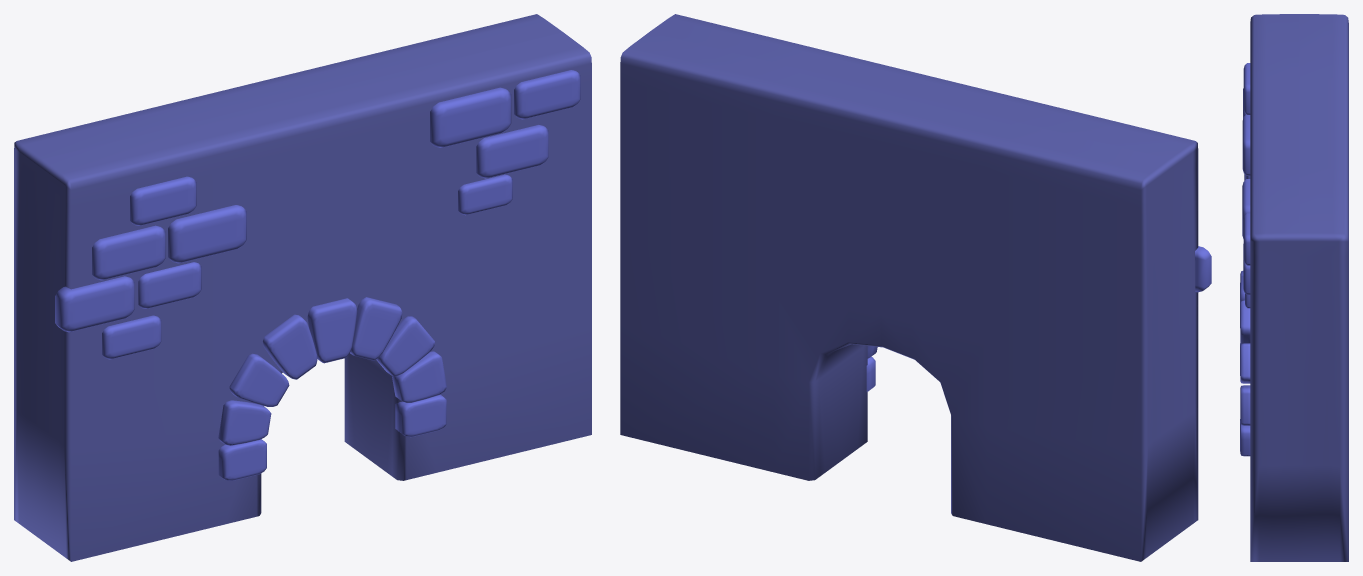
File: DisappearingGate.fbx
3 views of the same model, side by side, from view 1: azimuth 30°, elevation 25°; view 2: azimuth 150°, elevation 25°; view 3: azimuth 270°, elevation 25° (orthographic). The views are drawn at different scales.
Parts seen in each view (by area): view 1: Gate, pCube98, pCube92, pCube95, pCube93, pCube99, pCube103, pCube91, pCube97, pCube104, pCube110, pCube94 (+8 smaller); view 2: Gate; view 3: Gate, pCube92, pCube108, pCube109, pCube110, pCube91, pCube97, pCube98, pCube107, pCube99.
Part boxes in pixels (<box>): Gate: <box>14,14,591,561</box>; pCube98: <box>430,87,511,147</box>; pCube92: <box>168,205,246,263</box>; pCube95: <box>55,276,134,332</box>; pCube93: <box>92,225,165,280</box>; pCube99: <box>476,125,548,178</box>; pCube103: <box>307,298,357,363</box>; pCube91: <box>130,176,196,225</box>; pCube97: <box>514,70,580,119</box>; pCube104: <box>263,314,317,379</box>; pCube110: <box>350,297,402,360</box>; pCube94: <box>138,262,201,308</box>; Gate: <box>620,14,1198,561</box>; Gate: <box>1250,14,1348,561</box>; pCube92: <box>1242,114,1250,175</box>; pCube108: <box>1240,385,1250,425</box>; pCube109: <box>1240,343,1250,383</box>; pCube110: <box>1240,300,1250,346</box>; pCube91: <box>1243,63,1250,114</box>; pCube97: <box>1243,213,1250,265</box>; pCube98: <box>1242,179,1250,238</box>; pCube107: <box>1240,419,1250,456</box>; pCube99: <box>1243,244,1250,294</box>.
Size of the model in its own units: 0.3261 by 0.2227 by 0.0667.
